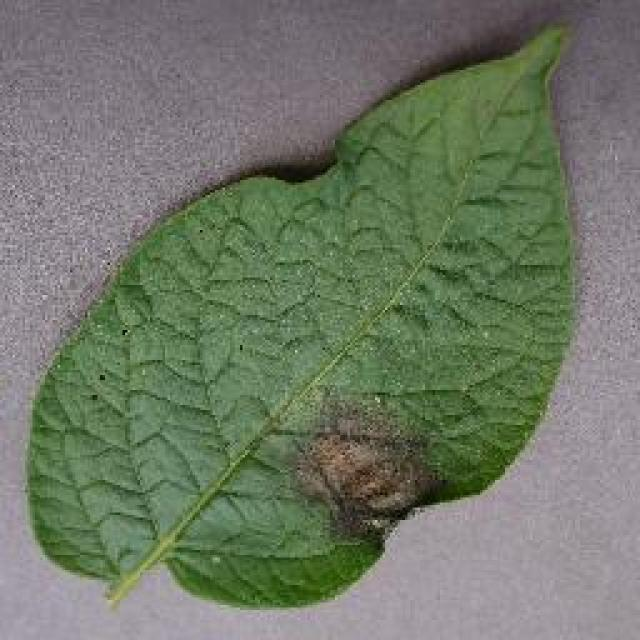late_blight: (20, 18, 582, 612)
